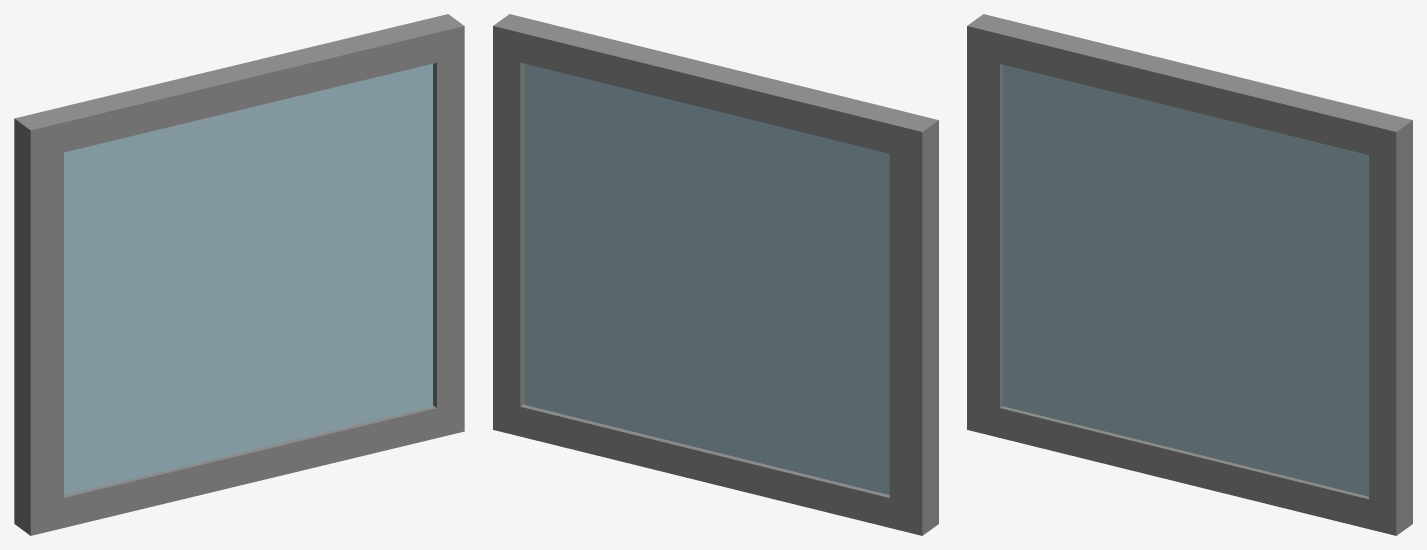
Rendered from Window_4.fbx.
3 renders of one model, left to right at view 1: azimuth 30°, elevation 25°; view 2: azimuth 150°, elevation 25°; view 3: azimuth 330°, elevation 25°, orthographic.
Visible parts, largest first — view 1: Window_4; view 2: Window_4; view 3: Window_4.
Part boxes in pixels (box(x1,y1,x2,y2)): Window_4: box(14, 14, 464, 535); Window_4: box(493, 14, 938, 535); Window_4: box(967, 14, 1412, 535).
Size of the model in its own units: 182 by 13.01 by 163.
